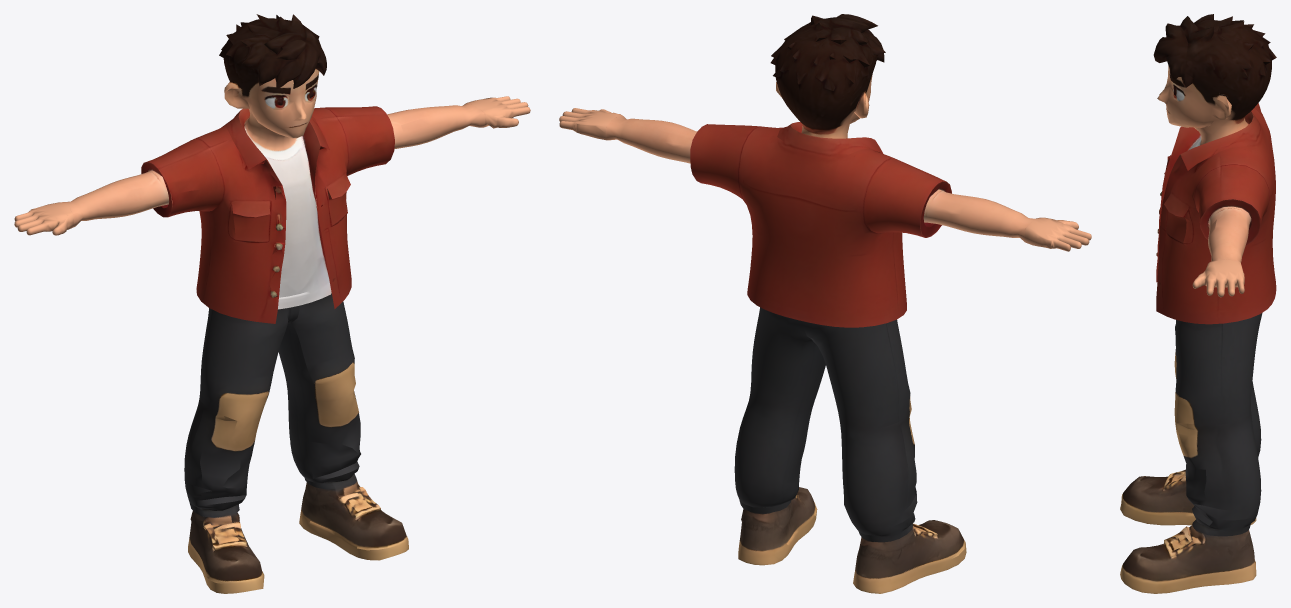
Rendered from male_common.obj.
3 renders of one model, left to right at view 1: azimuth 30°, elevation 25°; view 2: azimuth 150°, elevation 25°; view 3: azimuth 270°, elevation 25°, orthographic. The views are drawn at different scales.
Parts seen in each view (by area): view 1: model; view 2: model; view 3: model.
Part boxes in pixels (x1,y1,x2,y2): model: [14, 14, 530, 593]; model: [559, 14, 1091, 593]; model: [1120, 14, 1276, 593].
Size of the model in its own units: 1.73 by 1.71 by 0.458.
Materials: 1 (1 with a texture image).
